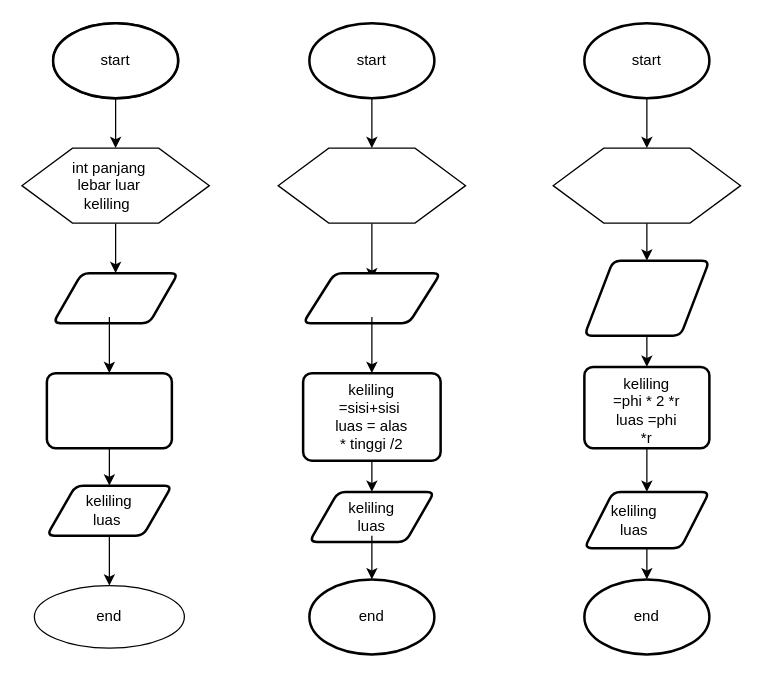
This 763x676 diagram has some shape labels left out. The centre of each missing label's shape, as x and y in pixels:
"double phi r luas keliling" belongs at point 646,185.
"int sisi,alas tinggi luas kelilind" belongs at point 371,185.
"keliling =2 (panjang +lebar luas = panjang * lebar" belongs at point 108,410.
"panjang lebar" belongs at point 115,297.
"phi,r" belongs at point 646,297.
"sisi alas tinggi" belongs at point 371,297.
